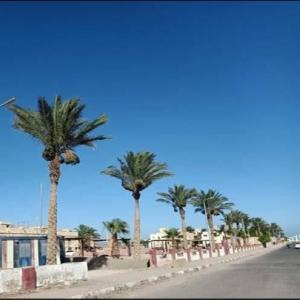palm tree: (7, 92, 112, 264), (100, 150, 172, 258), (191, 188, 233, 252), (156, 183, 197, 248), (102, 217, 130, 258)
